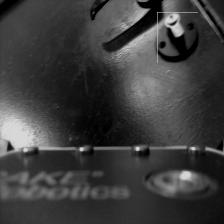Lock: (157, 12, 198, 63)
